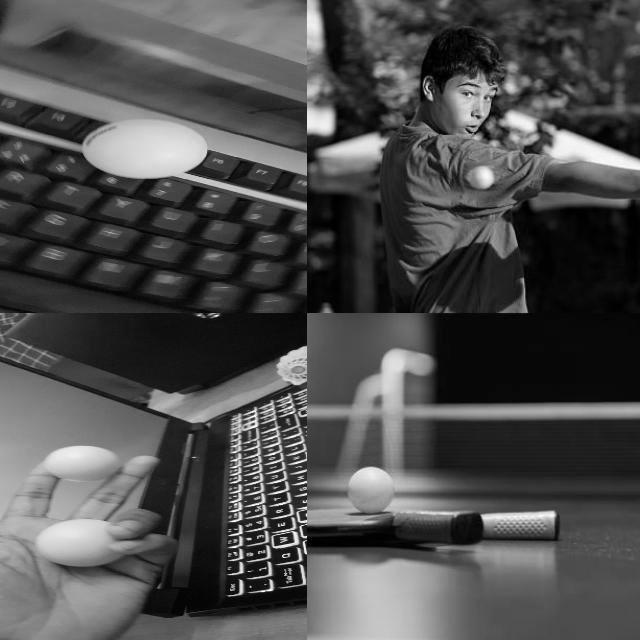ping-pong-ball: (86, 118, 207, 176), (38, 519, 120, 567), (44, 446, 118, 479), (347, 467, 393, 515), (469, 168, 493, 188)
